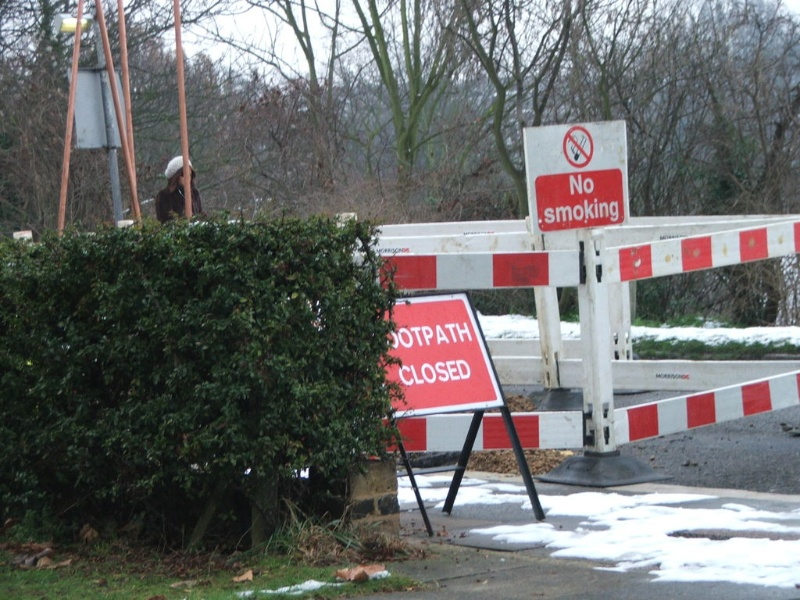no_smoking: (522, 123, 632, 230)
